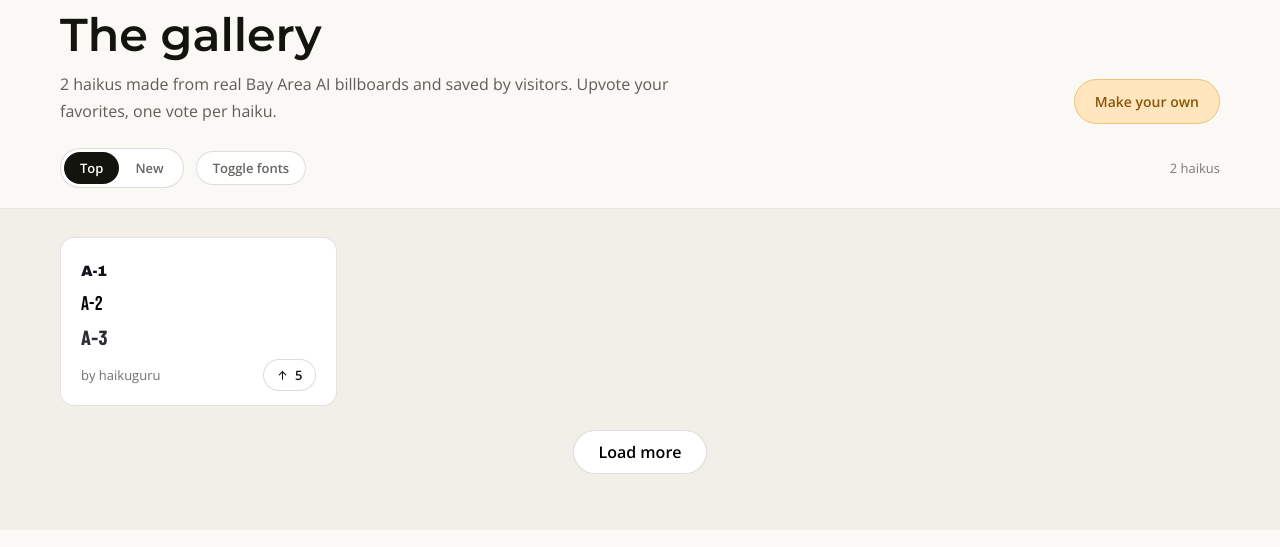
Test case: GalleryPage › loads more items and appends them without clearing existing ones
The image size is (1280, 547).
Expected: the text "a-1" is shown, [81,263,107,279]
Click the button "Load more": x=640, y=452 [574,430,706,474]
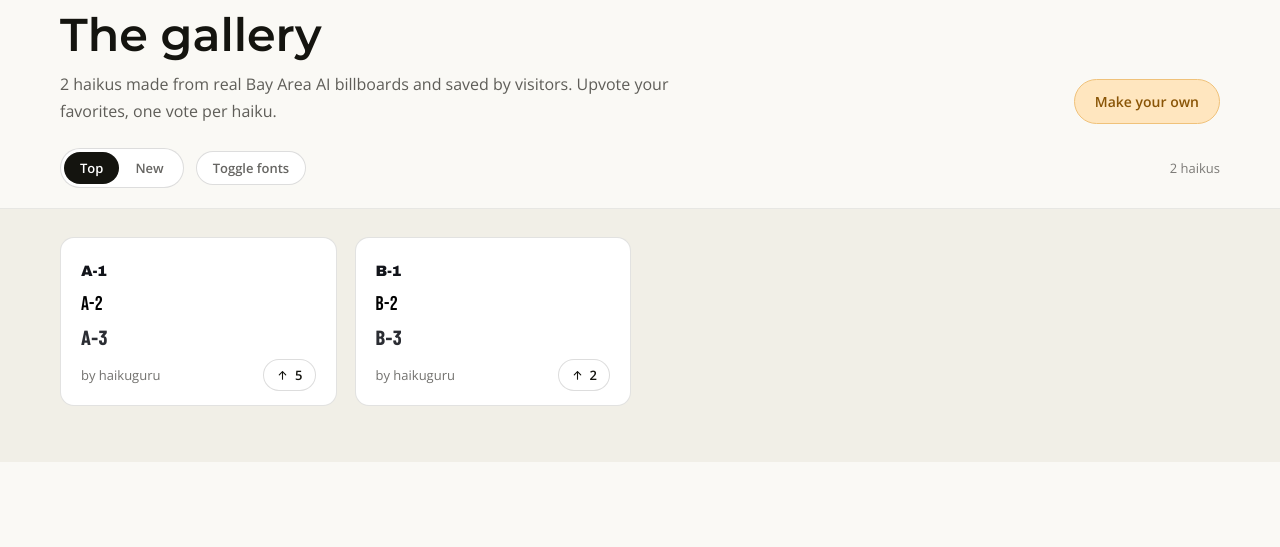
Expected: the text "a-1" is shown, [81,263,107,279]
Expected: the text "b-1" is shown, [376,263,401,279]
